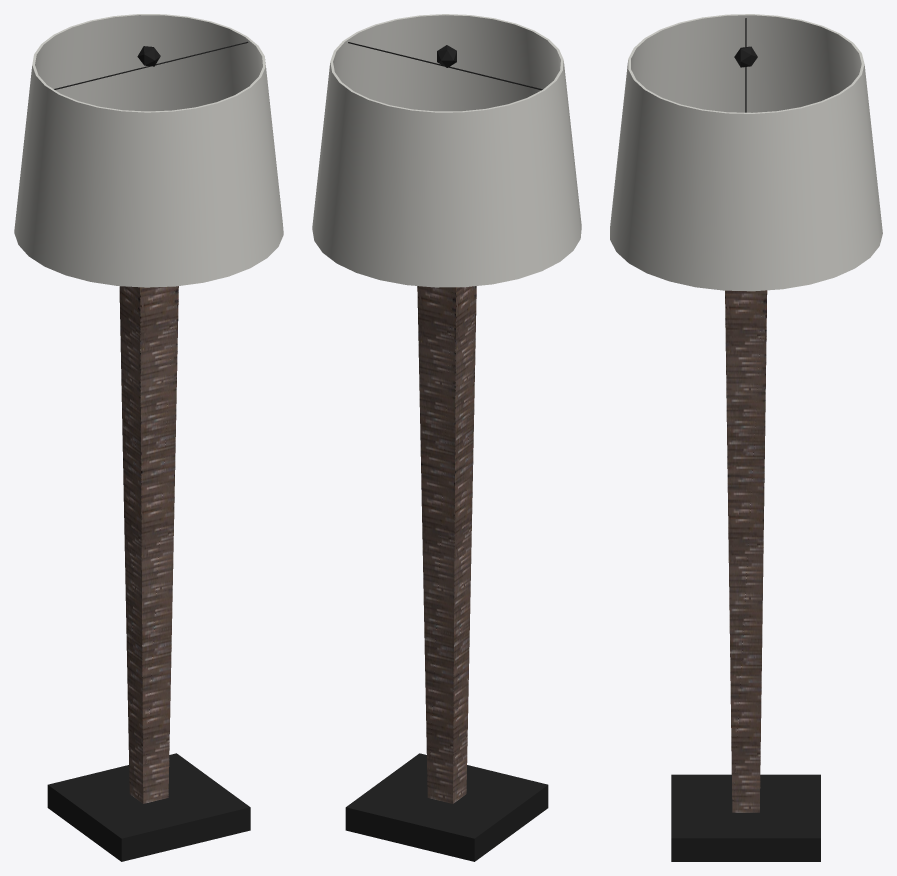
The model's file is lamp.obj.
3 views of the same model, side by side, from view 1: azimuth 30°, elevation 25°; view 2: azimuth 150°, elevation 25°; view 3: azimuth 270°, elevation 25° (orthographic).
Parts seen in each view (by area): view 1: Tube01_6c3eb5b1a21f496faa3d6d6db7fe41e4.001_Mesh_0, Box03_69f85a051f214b0ba981c8fc33b20873.001_Mesh_2, Box02_51368e6d30bc406f92c749204058ac38.001_Mesh_1; view 2: Tube01_6c3eb5b1a21f496faa3d6d6db7fe41e4.001_Mesh_0, Box03_69f85a051f214b0ba981c8fc33b20873.001_Mesh_2, Box02_51368e6d30bc406f92c749204058ac38.001_Mesh_1; view 3: Tube01_6c3eb5b1a21f496faa3d6d6db7fe41e4.001_Mesh_0, Box03_69f85a051f214b0ba981c8fc33b20873.001_Mesh_2, Box02_51368e6d30bc406f92c749204058ac38.001_Mesh_1.
Boxes of the visible parts, x1,y1,x2,y2 form: Tube01_6c3eb5b1a21f496faa3d6d6db7fe41e4.001_Mesh_0: (14, 14, 283, 287); Box03_69f85a051f214b0ba981c8fc33b20873.001_Mesh_2: (119, 286, 178, 803); Box02_51368e6d30bc406f92c749204058ac38.001_Mesh_1: (47, 753, 250, 861); Tube01_6c3eb5b1a21f496faa3d6d6db7fe41e4.001_Mesh_0: (312, 14, 581, 287); Box03_69f85a051f214b0ba981c8fc33b20873.001_Mesh_2: (417, 286, 476, 803); Box02_51368e6d30bc406f92c749204058ac38.001_Mesh_1: (345, 753, 548, 861); Tube01_6c3eb5b1a21f496faa3d6d6db7fe41e4.001_Mesh_0: (610, 14, 882, 291); Box03_69f85a051f214b0ba981c8fc33b20873.001_Mesh_2: (725, 290, 767, 812); Box02_51368e6d30bc406f92c749204058ac38.001_Mesh_1: (671, 774, 820, 861).
Bounding box in the file's own units: 0.4643 × 1.47 × 0.4636.
4 materials, 1 textured.
